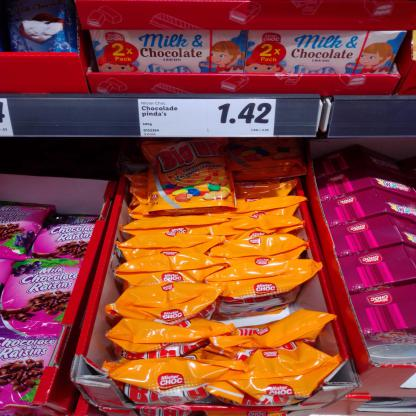prtg: (139, 100, 278, 138), (1, 100, 15, 138)
